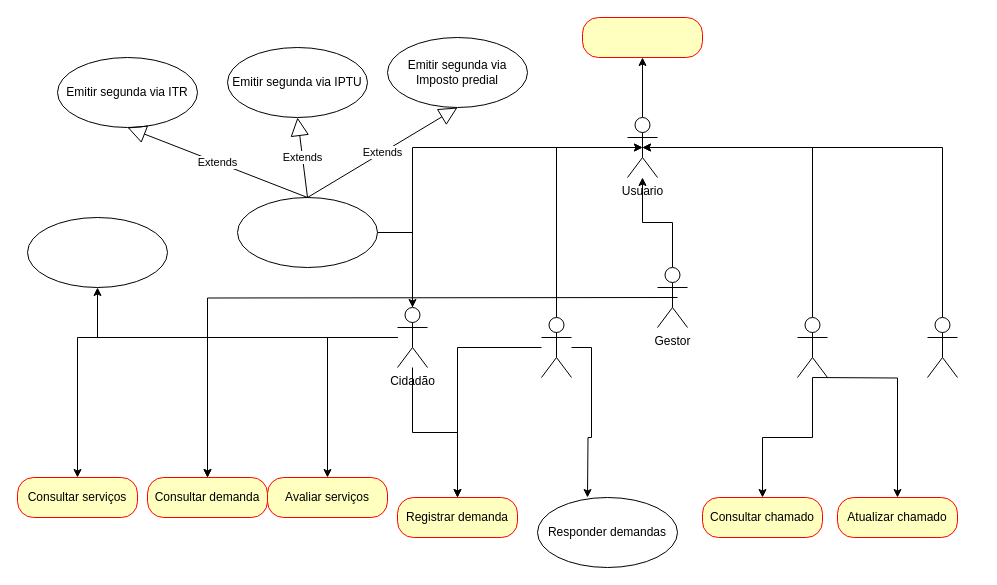
This 997x585 diagram has some shape labels left out. The centre of each missing label's shape, as x and y in pixels:
"Administrador" belongs at point (942, 347).
"Atendente de campo" belongs at point (812, 347).
"Central Atendimento" belongs at point (556, 347).
"Consultar imposto" belongs at point (97, 252).
"Emitir segunda via" belongs at point (307, 232).
"Fazer login" belongs at point (642, 37).
